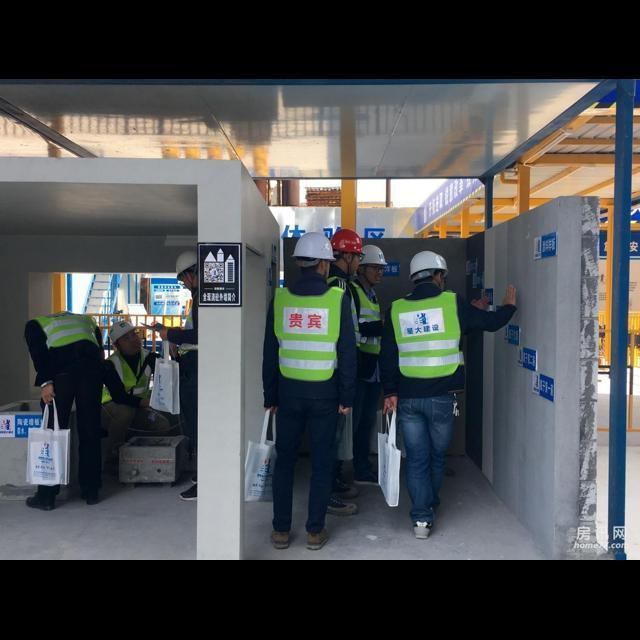Capacete: (293, 232, 334, 263), (410, 251, 447, 279), (331, 229, 362, 253), (109, 320, 134, 343), (176, 250, 197, 275), (360, 245, 386, 265)
Colete: (274, 287, 343, 381), (391, 291, 463, 378), (35, 312, 98, 348), (108, 349, 151, 397), (352, 281, 380, 323), (350, 295, 360, 343), (184, 306, 192, 329)
Pessoa: (380, 251, 515, 538), (262, 232, 355, 549), (24, 312, 103, 504), (102, 320, 171, 445), (351, 245, 386, 484), (158, 250, 198, 455), (327, 229, 362, 343)
